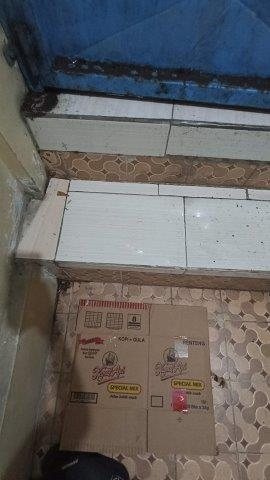kardus: (60, 300, 214, 454)
